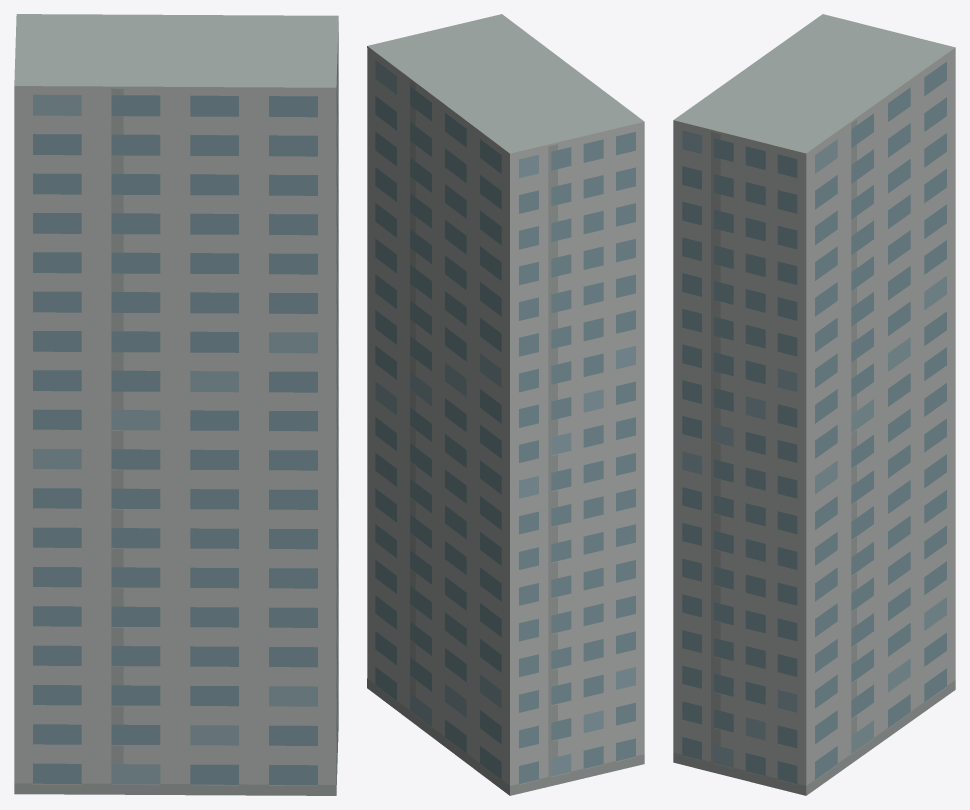
Rendered from residential-ab821f2b-0606-449f-a37d-b2c718d6f44b.glb.
3 renders of one model, left to right at view 1: azimuth 30°, elevation 25°; view 2: azimuth 150°, elevation 25°; view 3: azimuth 270°, elevation 25°, orthographic. The views are drawn at different scales.
Visible parts, largest first — view 1: residential-ab821f2b-0606-449f-a37d-b2c718d6f44b.tmp; view 2: residential-ab821f2b-0606-449f-a37d-b2c718d6f44b.tmp; view 3: residential-ab821f2b-0606-449f-a37d-b2c718d6f44b.tmp.
Part boxes in pixels (x1,y1,x2,y2): residential-ab821f2b-0606-449f-a37d-b2c718d6f44b.tmp: (14, 14, 338, 795); residential-ab821f2b-0606-449f-a37d-b2c718d6f44b.tmp: (367, 14, 644, 795); residential-ab821f2b-0606-449f-a37d-b2c718d6f44b.tmp: (673, 14, 955, 795).
Size of the model in its own units: 35.41 by 76 by 30.27.
